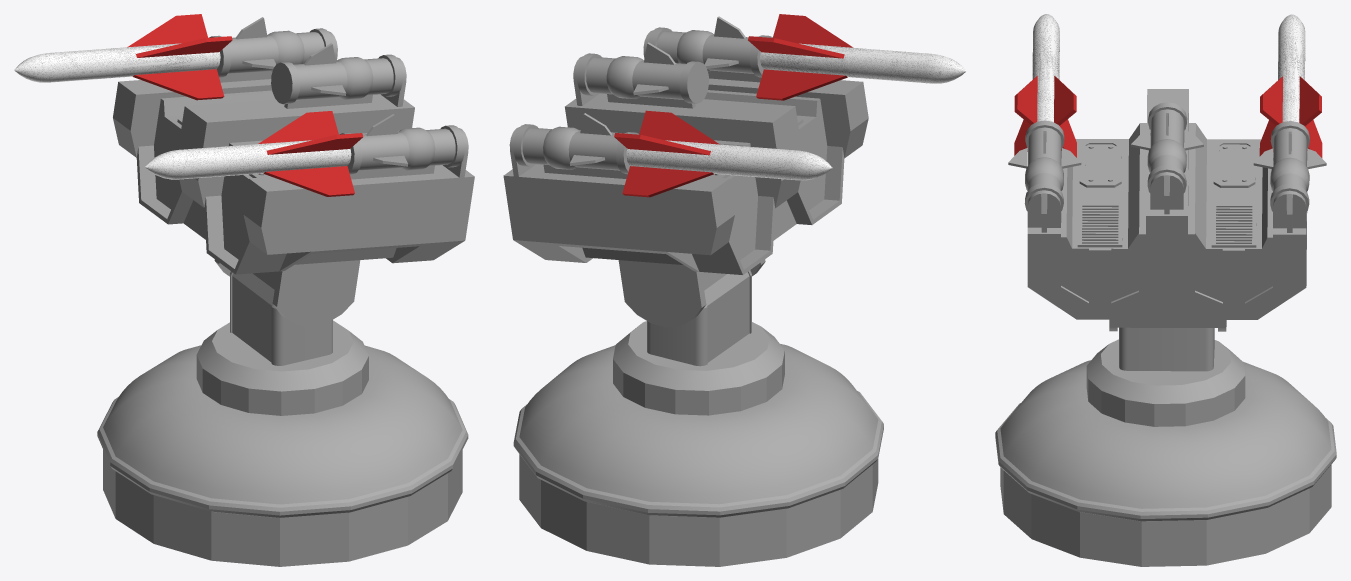
The model's file is missileLauncherP1.dae.
3 renders of one model, left to right at view 1: azimuth 30°, elevation 25°; view 2: azimuth 150°, elevation 25°; view 3: azimuth 270°, elevation 25°, orthographic. The views are drawn at different scales.
Visible parts, largest first — view 1: Fuss (×2), SketchUp (×6), Rakete (×2), raketenfluegel (×6), zwischenstk; view 2: Fuss (×2), SketchUp (×6), Rakete (×2), raketenfluegel (×6), zwischenstk; view 3: Fuss (×2), SketchUp (×12), Rakete (×2), zwischenstk, raketenfluegel (×4).
Boxes of the visible parts, x1,y1,x2,y2 form: Fuss (×2): (97, 320, 468, 566); SketchUp (×6): (113, 28, 474, 326); Rakete (×2): (14, 43, 351, 179); raketenfluegel (×6): (127, 14, 363, 196); zwischenstk: (230, 271, 332, 365); Fuss (×2): (513, 321, 883, 566); SketchUp (×6): (503, 27, 868, 327); Rakete (×2): (626, 43, 966, 180); raketenfluegel (×6): (614, 14, 852, 197); zwischenstk: (647, 270, 751, 366); Fuss (×2): (995, 339, 1336, 566); SketchUp (×12): (1024, 89, 1309, 331); Rakete (×2): (1032, 14, 1305, 122); zwischenstk: (1119, 327, 1214, 371); raketenfluegel (×4): (1014, 76, 1321, 126).
Bounding box in the file's own units: 5.48 × 4.82 × 6.3.
